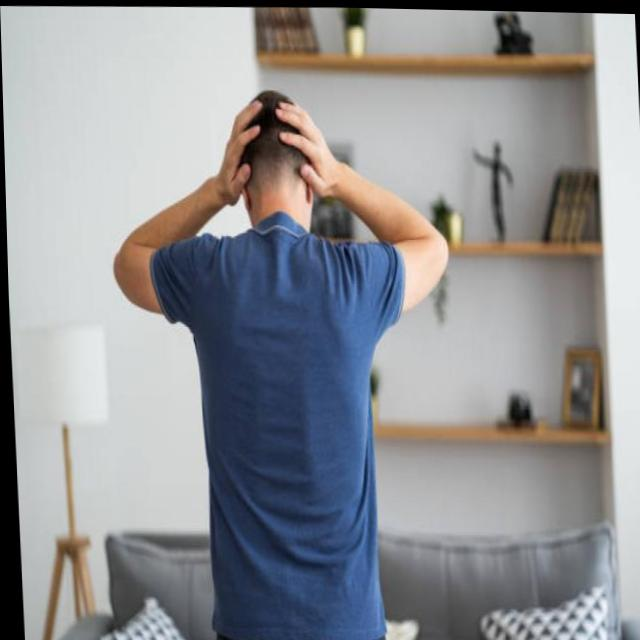no helmet: (191, 55, 335, 276)
